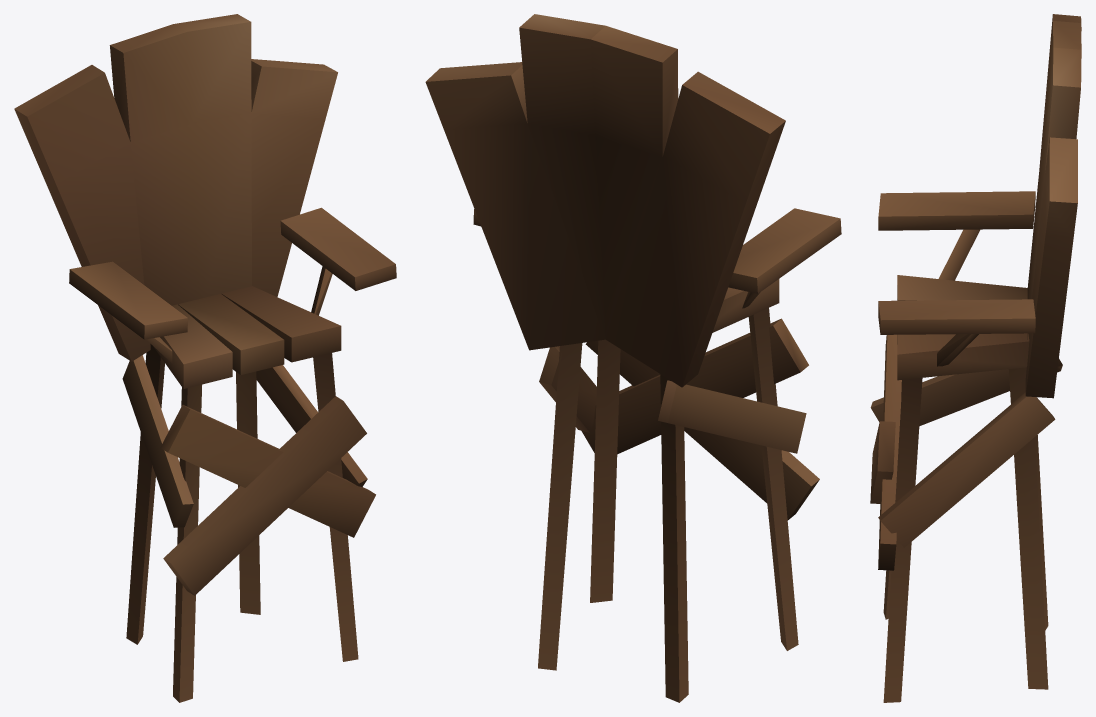
File: goblin_throne.fbx
3 views of the same model, side by side, from view 1: azimuth 30°, elevation 25°; view 2: azimuth 150°, elevation 25°; view 3: azimuth 270°, elevation 25° (orthographic). The views are drawn at different scales.
Parts seen in each view (by area): view 1: tuoli; view 2: tuoli; view 3: tuoli.
Part boxes in pixels (x1,y1,x2,y2): tuoli: (14,14,396,702); tuoli: (425,14,841,702); tuoli: (870,14,1081,702).
Bounding box in the file's own units: 2.82 × 1.61 × 5.14.
